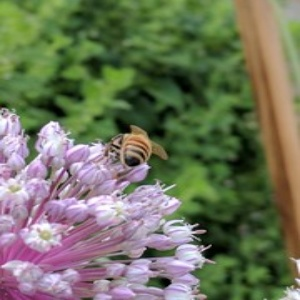bee: (105, 124, 172, 171)
